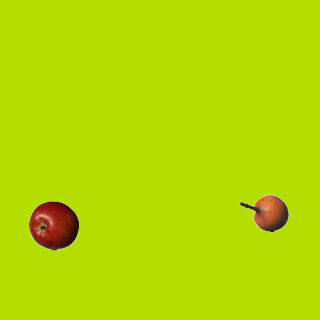Apple Braeburn: (28, 200, 78, 250)
Granadilla: (238, 188, 288, 238)
